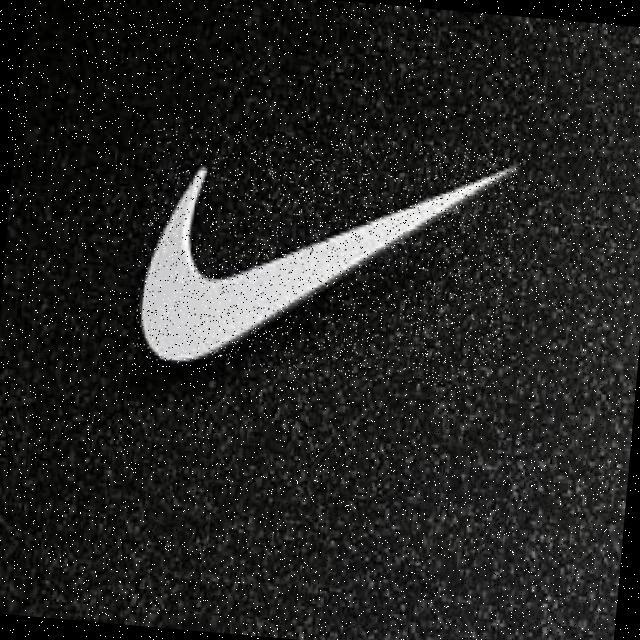Nike: (130, 123, 522, 392)
